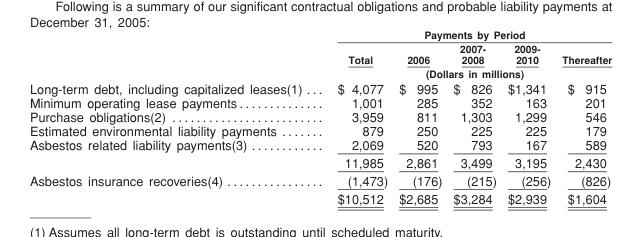table: (28, 28, 611, 205)
table column: (28, 28, 319, 205), (319, 28, 392, 205), (555, 28, 611, 205), (392, 28, 447, 205), (447, 28, 501, 205), (501, 28, 555, 205)
table column header: (28, 28, 611, 79)
table row: (28, 41, 611, 65), (28, 153, 611, 171), (28, 171, 611, 189), (28, 79, 611, 95), (28, 137, 611, 153), (28, 189, 611, 205), (28, 65, 611, 79), (28, 95, 611, 109), (28, 109, 611, 123), (28, 123, 611, 137), (28, 28, 611, 41)
table spanning cell: (319, 65, 611, 79), (319, 28, 611, 41)
